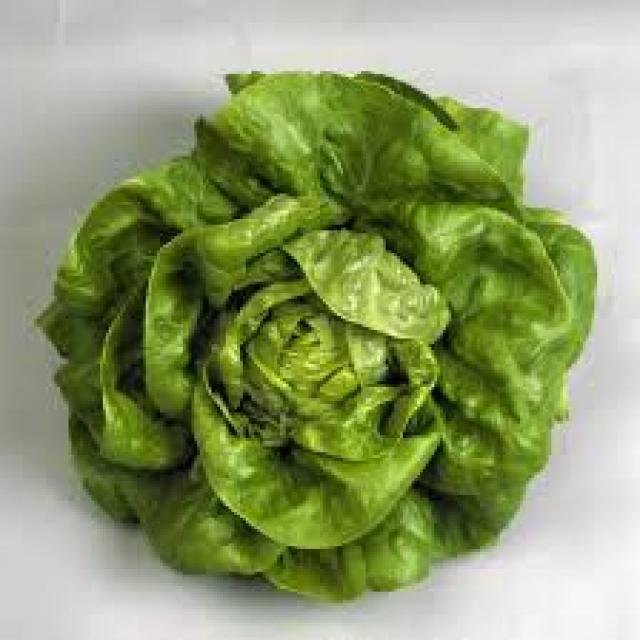Lettuce: (33, 59, 592, 594)
